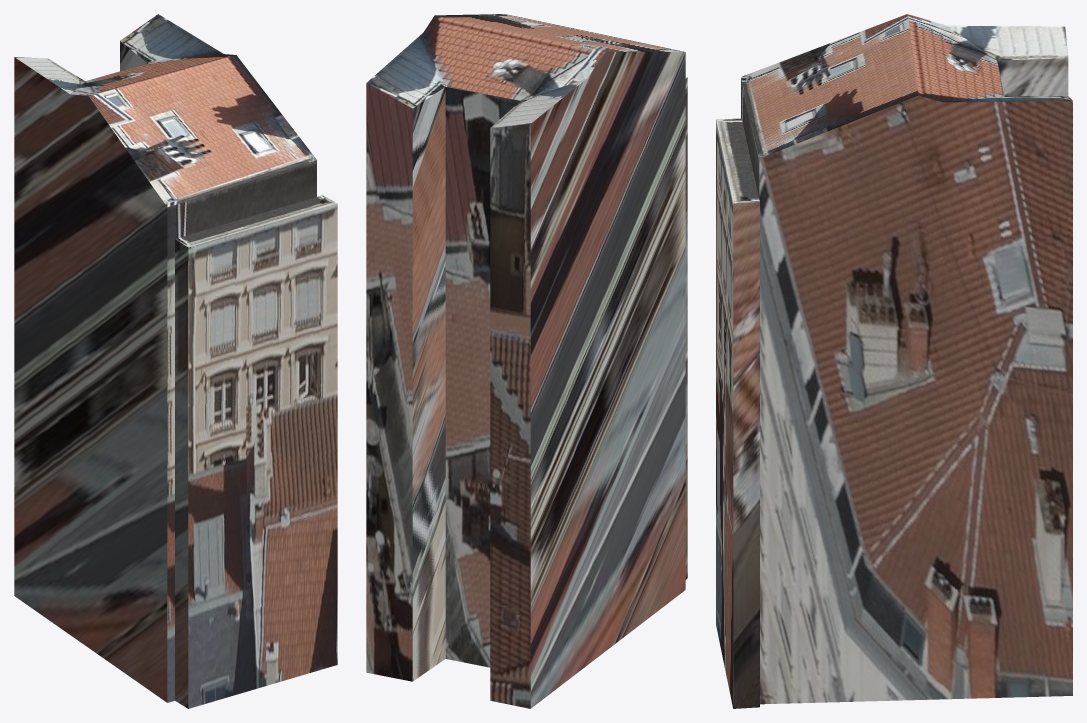
The picture shows the model from 3 angles, left to right: view 1: azimuth 30°, elevation 25°; view 2: azimuth 150°, elevation 25°; view 3: azimuth 270°, elevation 25°; orthographic projection. The views are drawn at different scales.
Parts seen in each view (by area): view 1: Z_UP; view 2: Z_UP; view 3: Z_UP.
Part boxes in pixels (x1=…): Z_UP: x1=14, y1=14, x2=337, y2=708; Z_UP: x1=366, y1=14, x2=687, y2=708; Z_UP: x1=716, y1=14, x2=1072, y2=708.
Bounding box in the file's own units: 7.95 × 24.38 × 13.04.
2 materials, 1 textured.
